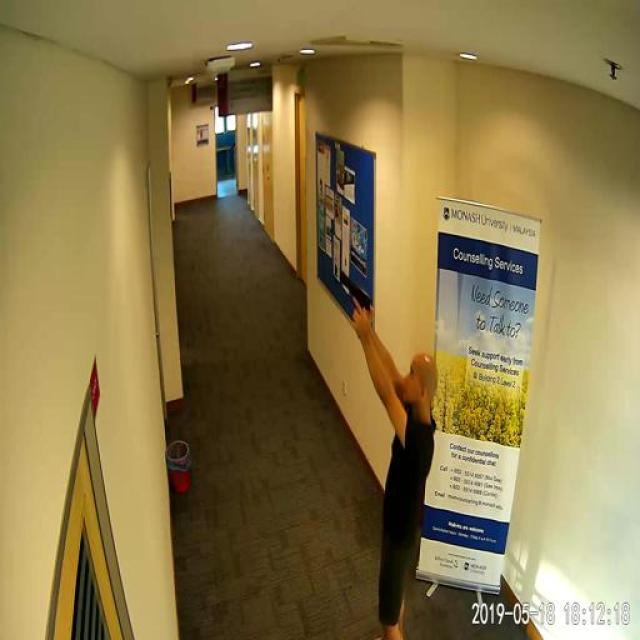Gun: (325, 266, 377, 329)
